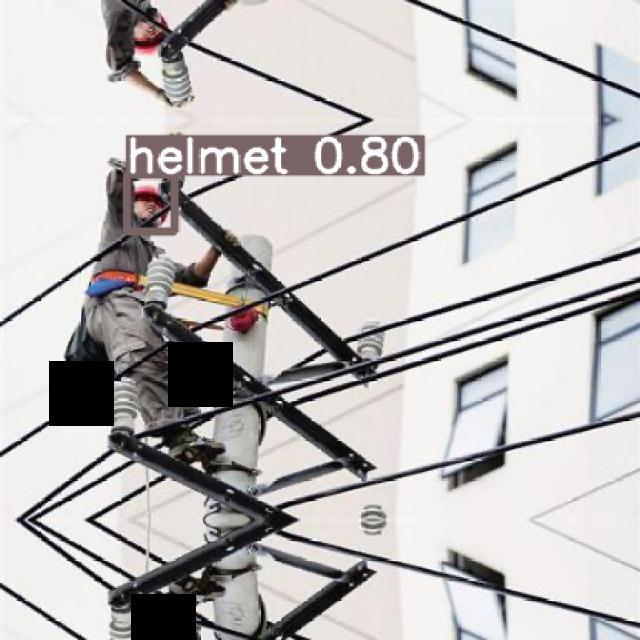helmet: (117, 177, 185, 234), (119, 5, 180, 62)
